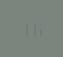six: (31, 20, 42, 36)
three: (19, 20, 30, 37)
